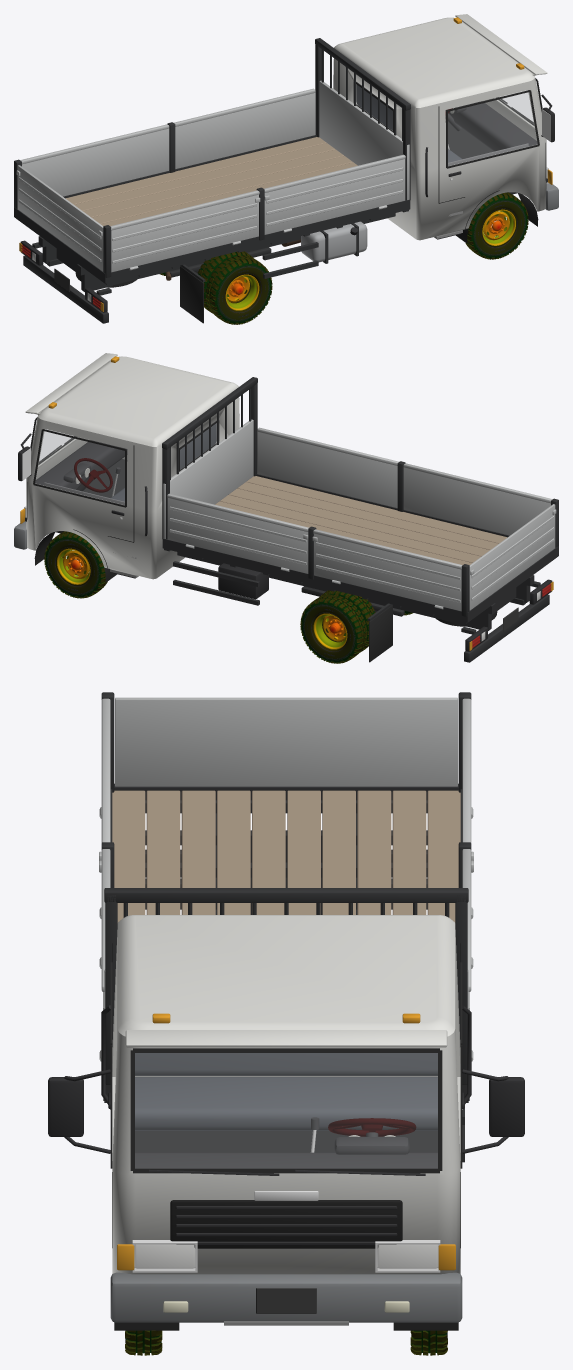
File: truck.glb
The picture shows the model from 3 angles, top to bottom: view 1: azimuth 30°, elevation 25°; view 2: azimuth 150°, elevation 25°; view 3: azimuth 270°, elevation 25°; orthographic projection. The views are drawn at different scales.
Visible parts, largest first — view 1: Truck_Body, Glass_DoorR, WheelStock_RR, Truck_Cab, WheelStock_FR, Glass_Back, Windshield; view 2: Truck_Body, Glass_DoorL, WheelStock_RL, Truck_Cab, WheelStock_FL, Glass_Back, Steering_Wheel, Windshield; view 3: Truck_Body, Windshield, Truck_Cab, Lamp_Head, Lens, Numberplate_Front, Steering_Wheel, WheelStock_FR, WheelStock_FL.
Boxes of the visible parts, x1,y1,x2,y2 form: Truck_Body: (14, 14, 558, 323); Glass_DoorR: (448, 93, 536, 165); WheelStock_RR: (197, 251, 272, 324); Truck_Cab: (356, 22, 537, 166); WheelStock_FR: (465, 192, 528, 259); Glass_Back: (356, 84, 392, 129); Windshield: (499, 93, 533, 125); Truck_Body: (14, 353, 558, 662); Glass_DoorL: (36, 431, 124, 504); WheelStock_RL: (300, 590, 375, 663); Truck_Cab: (35, 360, 216, 505); WheelStock_FL: (44, 531, 107, 598); Glass_Back: (180, 423, 216, 468); Steering_Wheel: (74, 458, 112, 492); Windshield: (39, 432, 73, 464); Truck_Body: (48, 692, 524, 1330); Windshield: (135, 1053, 437, 1167); Truck_Cab: (135, 1053, 437, 1168); Lamp_Head: (134, 1244, 438, 1268); Lens: (135, 1245, 437, 1269); Numberplate_Front: (256, 1288, 316, 1313); Steering_Wheel: (328, 1118, 416, 1136); WheelStock_FR: (125, 1330, 162, 1355); WheelStock_FL: (410, 1330, 447, 1355).
Bounding box in the file's own units: 5.93 × 2.26 × 2.67.
